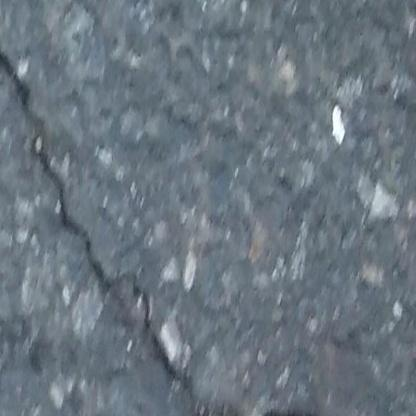Cracks: (0, 22, 301, 416)
